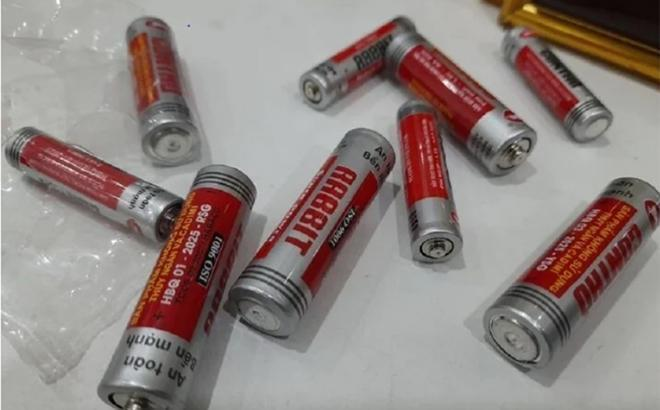AA: (93, 162, 262, 409), (226, 125, 400, 341), (481, 173, 659, 375), (382, 28, 541, 182), (125, 13, 206, 170)
AAA: (2, 121, 190, 249), (496, 21, 618, 150), (396, 95, 468, 268)
